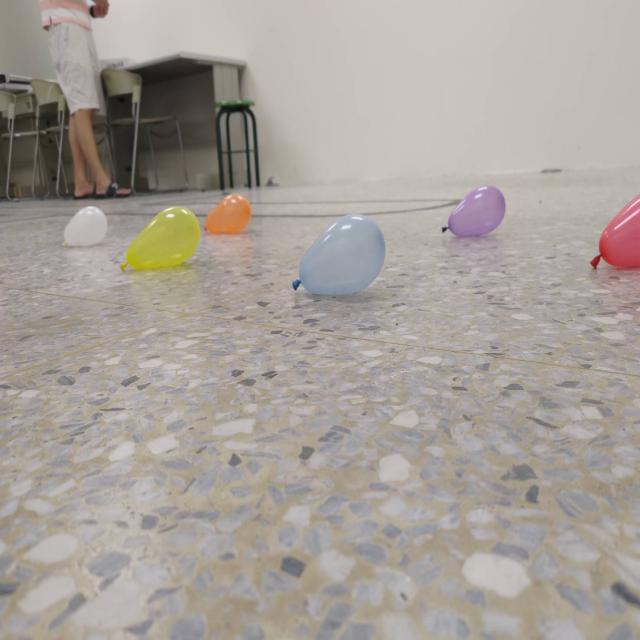other: (291, 214, 386, 297), (118, 204, 200, 275), (441, 185, 507, 236), (204, 192, 251, 234), (61, 206, 108, 243)
red: (589, 194, 639, 269)
